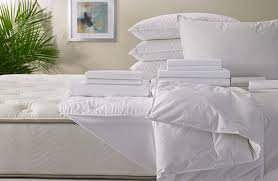bed-matress: (1, 72, 278, 179)
